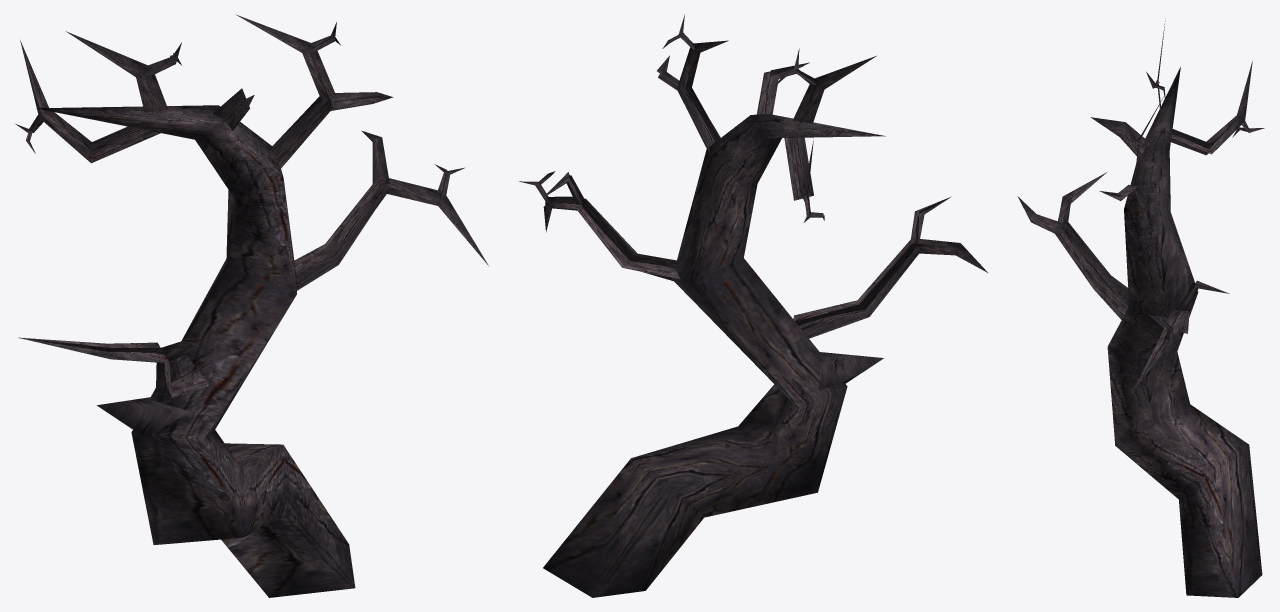
The model's file is yw_mojiediyu_jingji03.FBX.
The picture shows the model from 3 angles, left to right: view 1: azimuth 30°, elevation 25°; view 2: azimuth 150°, elevation 25°; view 3: azimuth 270°, elevation 25°; orthographic projection. The views are drawn at different scales.
Visible parts, largest first — view 1: yw_mojiediyu_jingji03; view 2: yw_mojiediyu_jingji03; view 3: yw_mojiediyu_jingji03.
Boxes of the visible parts, x1,y1,x2,y2 form: yw_mojiediyu_jingji03: (15, 14, 488, 597); yw_mojiediyu_jingji03: (519, 14, 987, 597); yw_mojiediyu_jingji03: (1017, 18, 1264, 597).
Bounding box in the file's own units: 69.23 × 86.75 × 41.09.
